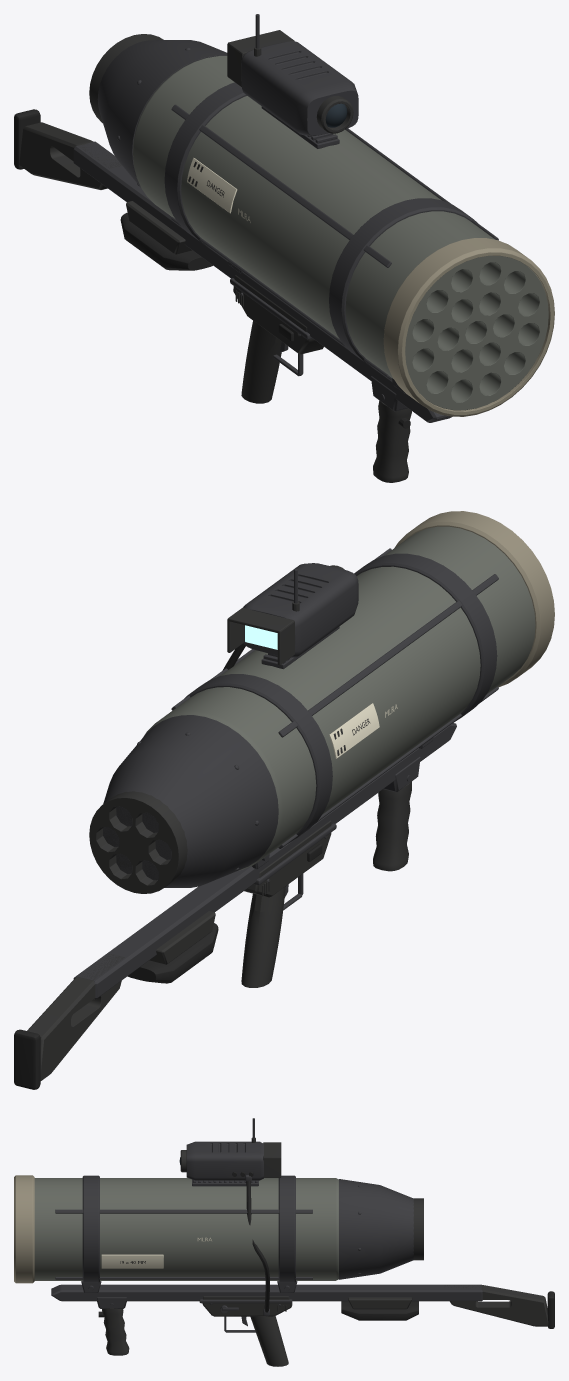
The model's file is mlra.glb.
3 renders of one model, top to bottom at view 1: azimuth 30°, elevation 25°; view 2: azimuth 150°, elevation 25°; view 3: azimuth 270°, elevation 25°, orthographic. The views are drawn at different scales.
Visible parts, largest first — view 1: Body; view 2: Body; view 3: Body.
Part boxes in pixels (left/top/right/bottom): Body: left=14, top=14, right=554, bottom=482; Body: left=14, top=511, right=554, bottom=1089; Body: left=14, top=1118, right=554, bottom=1366.
Size of the model in its own units: 0.2103 by 0.5115 by 1.05.
